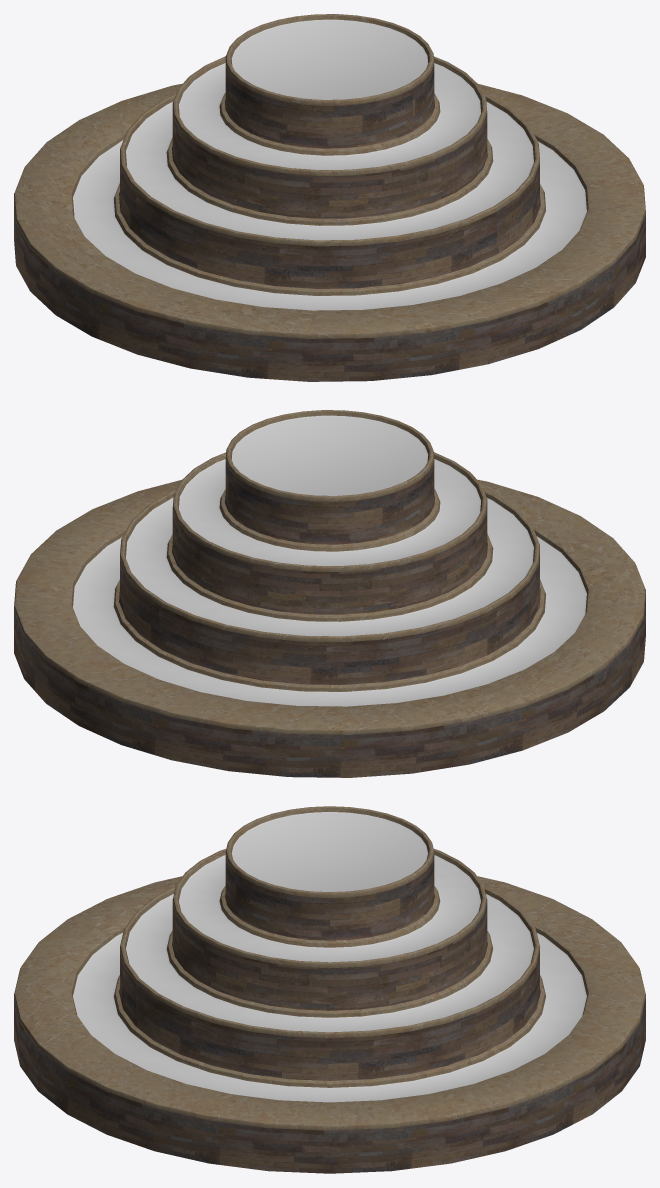
The model's file is garden_1.fbx.
3 renders of one model, top to bottom at view 1: azimuth 30°, elevation 25°; view 2: azimuth 150°, elevation 25°; view 3: azimuth 270°, elevation 25°, orthographic.
Visible parts, largest first — view 1: Cylinder; view 2: Cylinder; view 3: Cylinder.
Boxes of the visible parts, x1,y1,x2,y2 form: Cylinder: (14,14,645,381); Cylinder: (14,410,645,777); Cylinder: (14,806,645,1173).
Bounding box in the file's own units: 600 × 200 × 600.
